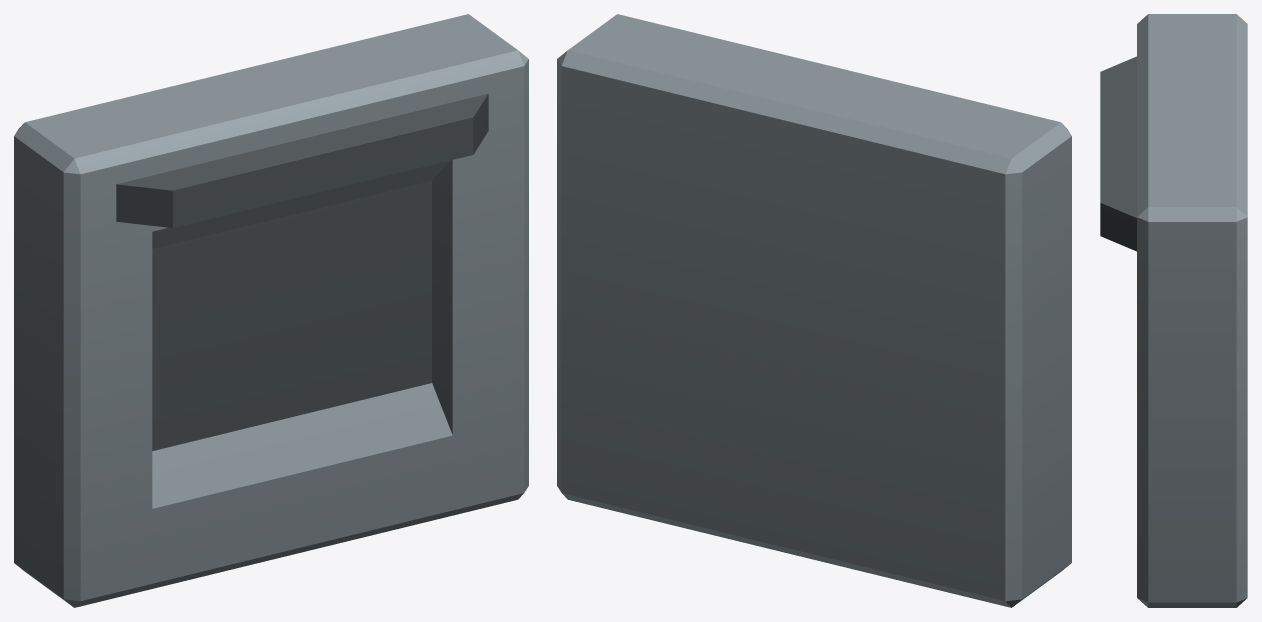
File: oven_door.obj
3 renders of one model, left to right at view 1: azimuth 30°, elevation 25°; view 2: azimuth 150°, elevation 25°; view 3: azimuth 270°, elevation 25°, orthographic. The views are drawn at different scales.
Parts seen in each view (by area): view 1: oven_door_Cube.069; view 2: oven_door_Cube.069; view 3: oven_door_Cube.069.
Part boxes in pixels (x1,y1,x2,y2): oven_door_Cube.069: [14, 14, 528, 607]; oven_door_Cube.069: [557, 14, 1071, 607]; oven_door_Cube.069: [1100, 14, 1247, 607].
Size of the model in its own units: 1.3 by 1.2 by 0.4.
1 material, 1 textured.
